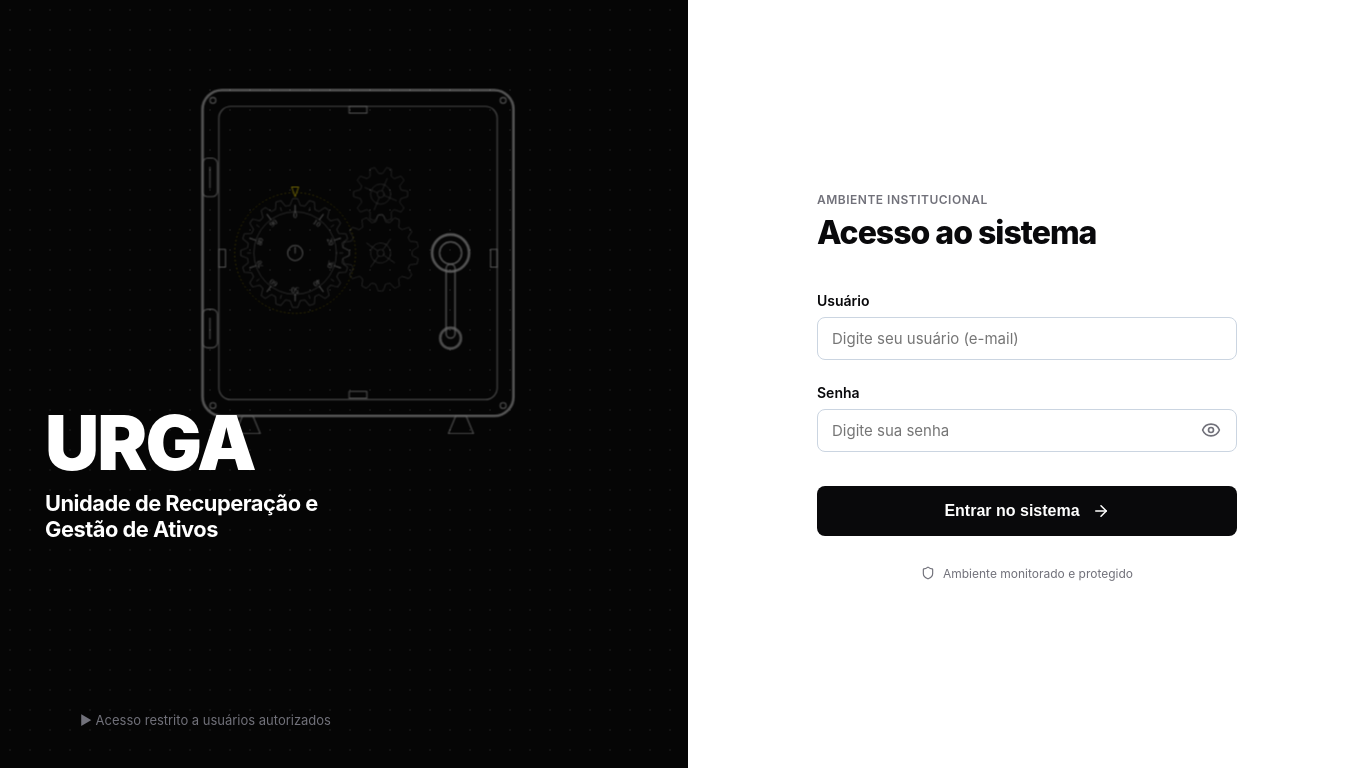
Test: LoginContainer › deve exibir mensagem de erro se o login falhar
In the field with placeholder "Digite seu usuário (e-mail)": point(1027, 338) left=817, top=316, right=1237, bottom=360, type "teste@urga.com"
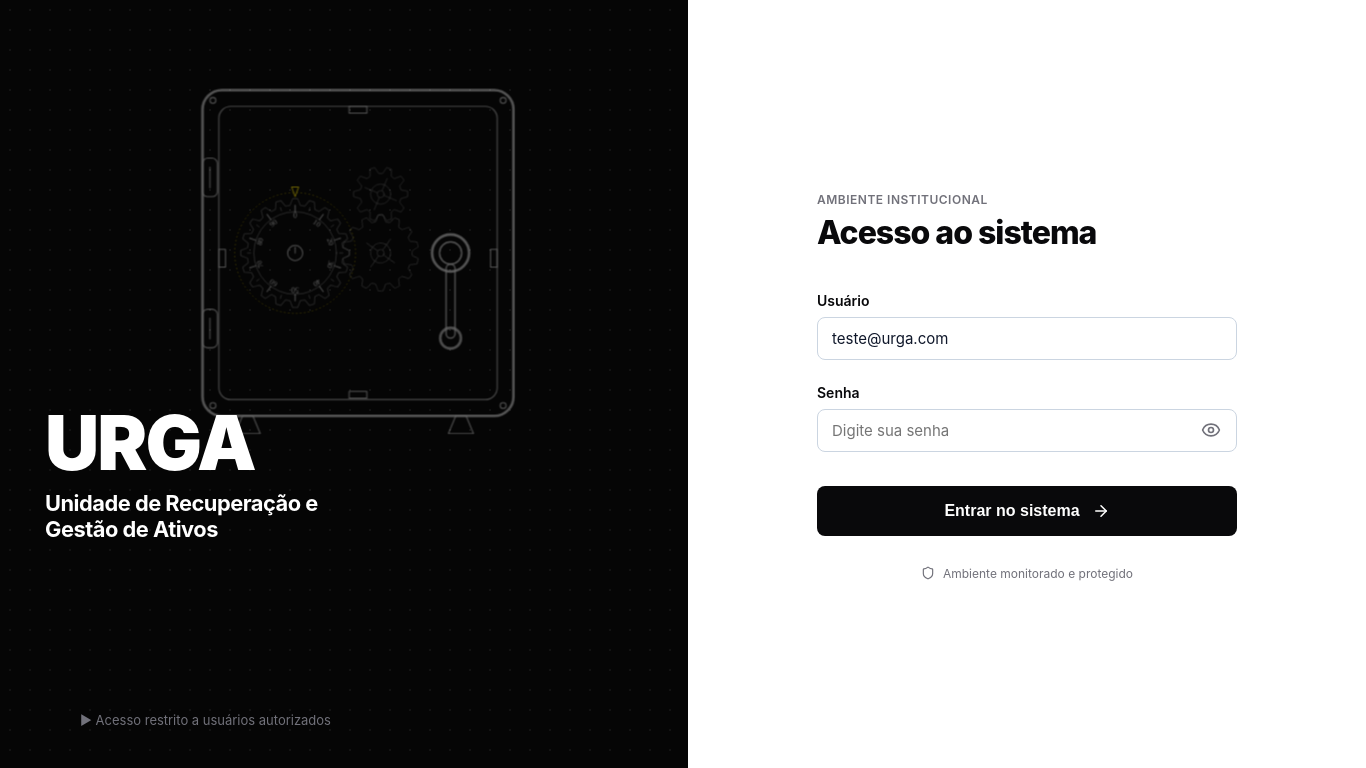
In the password field with placeholder "Digite sua senha": point(1027, 430) left=817, top=408, right=1237, bottom=452, type "senha123"
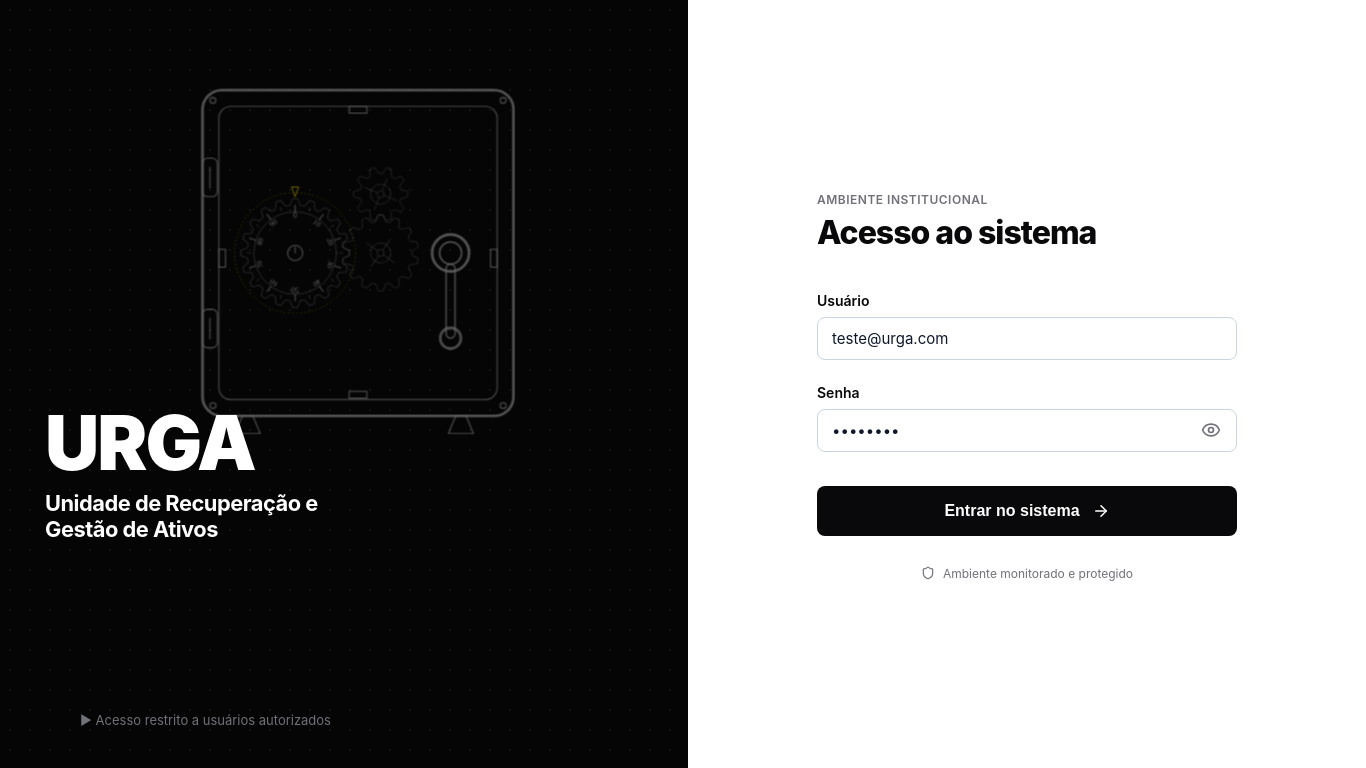
Click the button "Entrar no sistema": point(1027, 510) left=817, top=486, right=1237, bottom=536
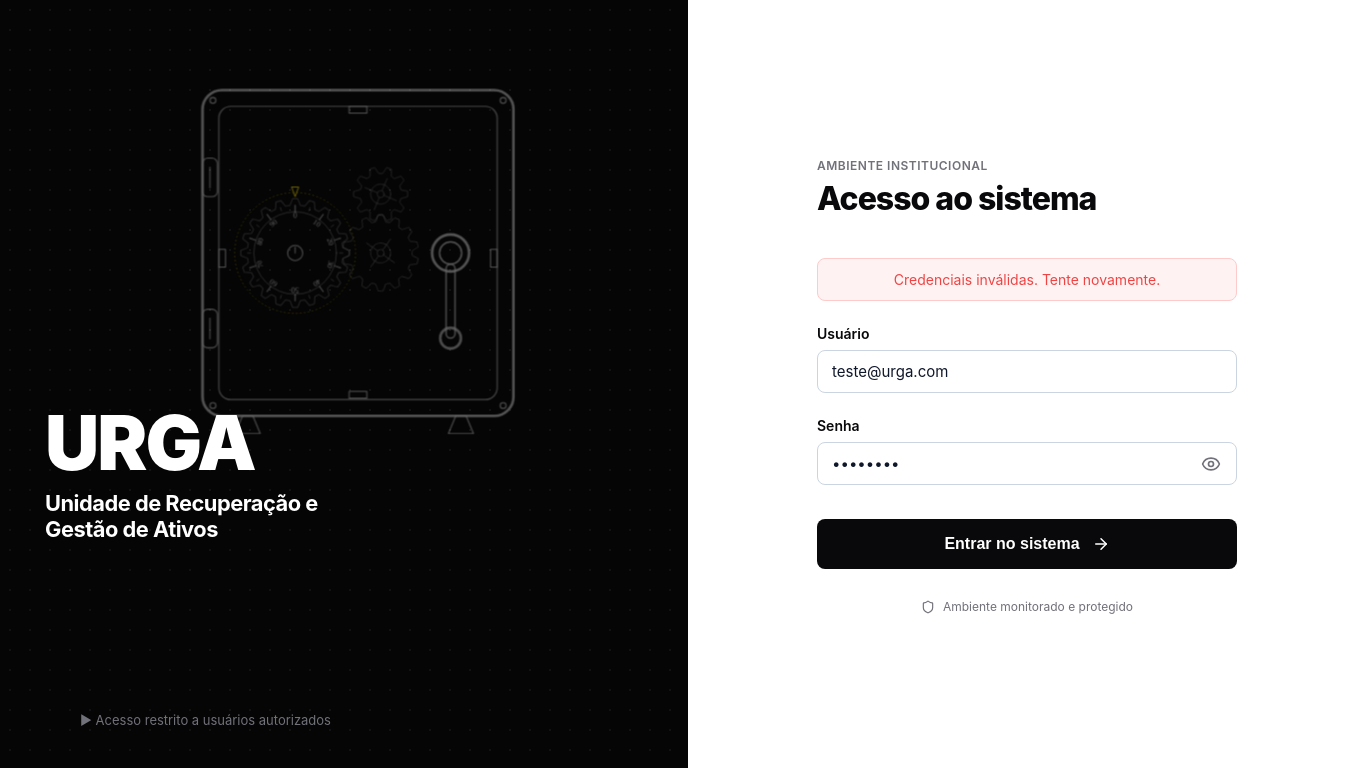
Check: the text "Credenciais inválidas. Tente novamente." is shown, box left=817, top=258, right=1237, bottom=301
